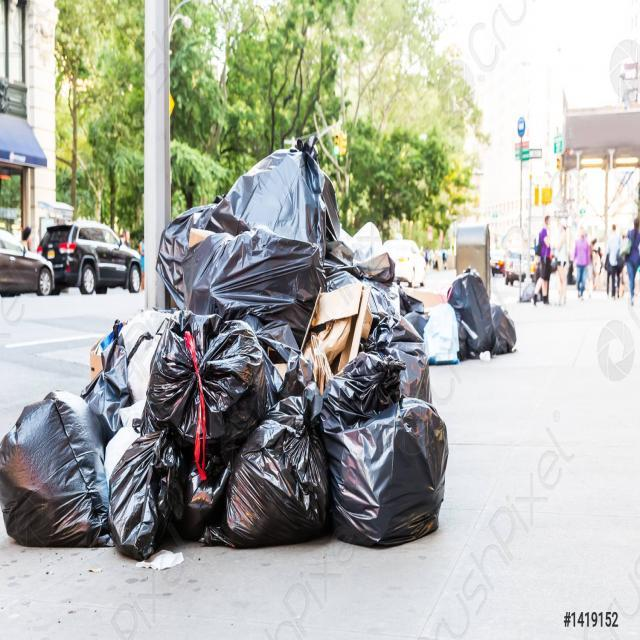garbage: (0, 137, 521, 563)
